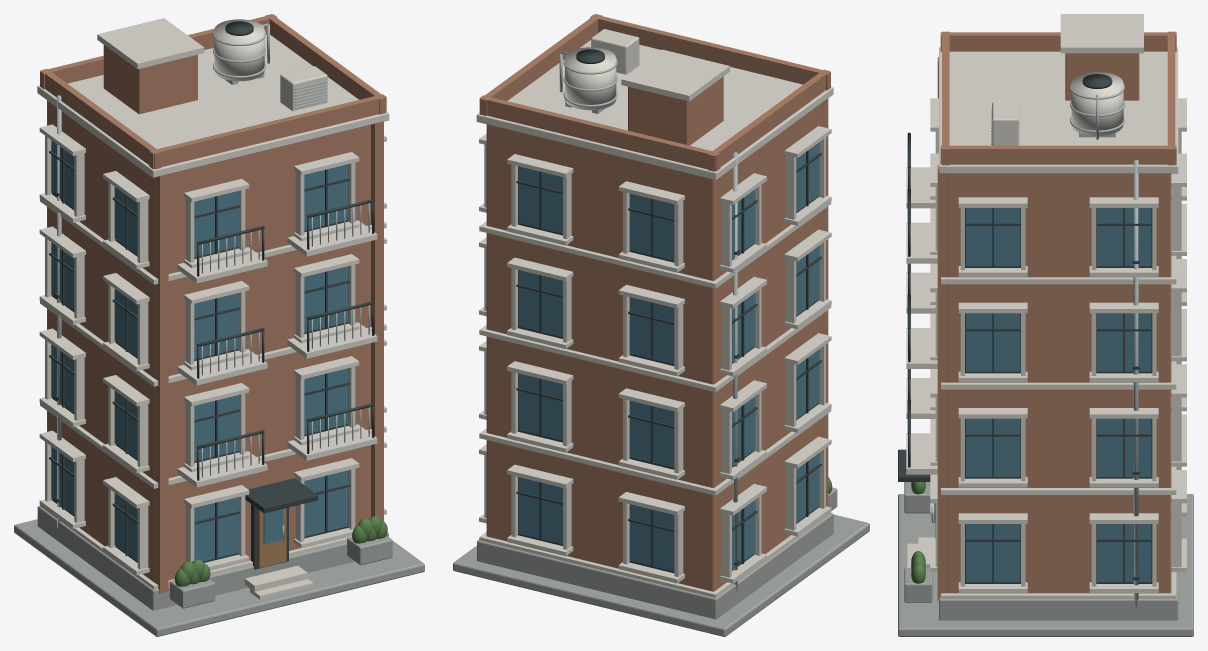
Rendered from site-apartment-tall.glb.
The picture shows the model from 3 angles, left to right: view 1: azimuth 30°, elevation 25°; view 2: azimuth 150°, elevation 25°; view 3: azimuth 270°, elevation 25°; orthographic projection. The views are drawn at different scales.
Visible parts, largest first — view 1: site-apartment-tall_Terracotta_brick, site-apartment-tall_Warm_white_precast, site-apartment-tall_Blue_reflective_glazing, site-apartment-tall_Honed_grey_sandstone, site-apartment-tall_Anthracite_anodized_metal, site-apartment-tall_Galvanized_brushed_steel, site-apartment-tall_Garden_evergreen, site-apartment-tall_Weathered_warm_teak; view 2: site-apartment-tall_Terracotta_brick, site-apartment-tall_Warm_white_precast, site-apartment-tall_Blue_reflective_glazing, site-apartment-tall_Honed_grey_sandstone, site-apartment-tall_Anthracite_anodized_metal, site-apartment-tall_Galvanized_brushed_steel; view 3: site-apartment-tall_Terracotta_brick, site-apartment-tall_Warm_white_precast, site-apartment-tall_Blue_reflective_glazing, site-apartment-tall_Honed_grey_sandstone, site-apartment-tall_Anthracite_anodized_metal, site-apartment-tall_Galvanized_brushed_steel, site-apartment-tall_Garden_evergreen.
Part boxes in pixels (x1,y1,x2,y2): site-apartment-tall_Terracotta_brick: [40, 14, 386, 593]; site-apartment-tall_Warm_white_precast: [37, 18, 389, 599]; site-apartment-tall_Blue_reflective_glazing: [51, 140, 348, 561]; site-apartment-tall_Honed_grey_sandstone: [14, 505, 424, 636]; site-apartment-tall_Anthracite_anodized_metal: [49, 21, 374, 569]; site-apartment-tall_Galvanized_brushed_steel: [57, 23, 369, 540]; site-apartment-tall_Garden_evergreen: [174, 516, 387, 586]; site-apartment-tall_Weathered_warm_teak: [258, 508, 286, 567]; site-apartment-tall_Terracotta_brick: [479, 14, 830, 591]; site-apartment-tall_Warm_white_precast: [476, 29, 833, 597]; site-apartment-tall_Blue_reflective_glazing: [518, 142, 819, 571]; site-apartment-tall_Honed_grey_sandstone: [453, 487, 869, 636]; site-apartment-tall_Anthracite_anodized_metal: [516, 49, 821, 573]; site-apartment-tall_Galvanized_brushed_steel: [559, 51, 737, 591]; site-apartment-tall_Terracotta_brick: [937, 31, 1176, 600]; site-apartment-tall_Warm_white_precast: [906, 14, 1186, 598]; site-apartment-tall_Blue_reflective_glazing: [934, 208, 1151, 582]; site-apartment-tall_Honed_grey_sandstone: [898, 482, 1193, 636]; site-apartment-tall_Anthracite_anodized_metal: [898, 74, 1152, 583]; site-apartment-tall_Galvanized_brushed_steel: [931, 84, 1138, 607]; site-apartment-tall_Garden_evergreen: [911, 482, 925, 583].
Bounding box in the file's own units: 4.55 × 8.11 × 4.2.
